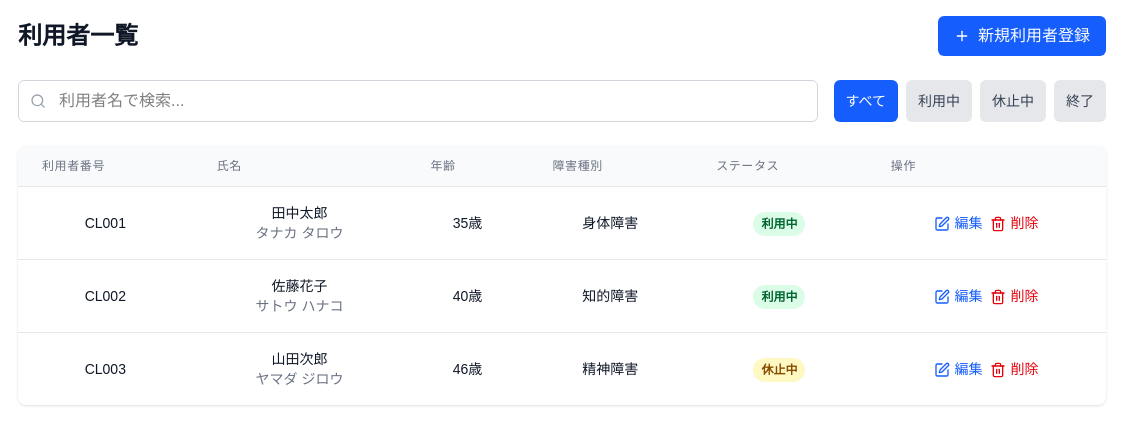
Test: ClientList › search functionality › filters clients by client number when searching
The width and height of the screenshot is (1123, 423).
Type "CL002" into the field with placeholder "利用者名で検索..." at (418, 101), box [18,80,818,122]
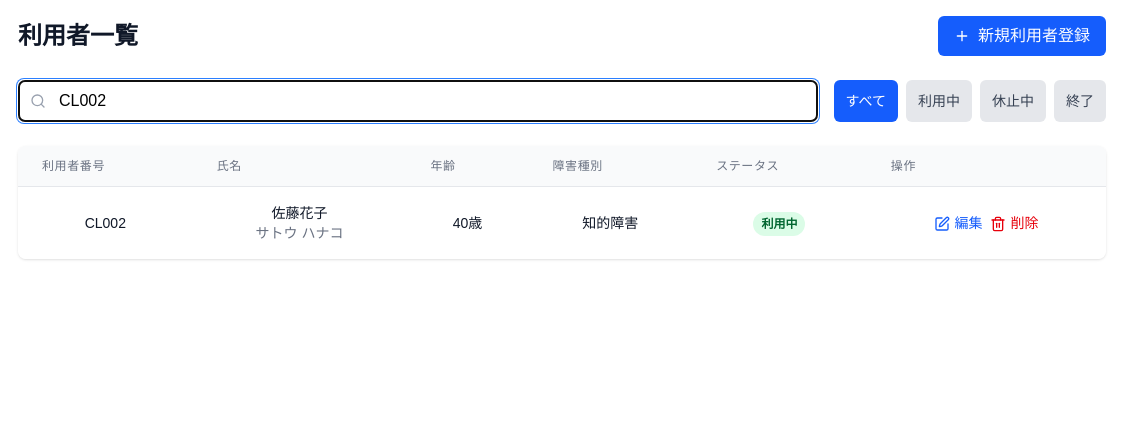
Expected: the text "佐藤花子" is shown, [272,205,328,221]
Result: the text "田中太郎" is gone
Result: the text "山田次郎" is gone
